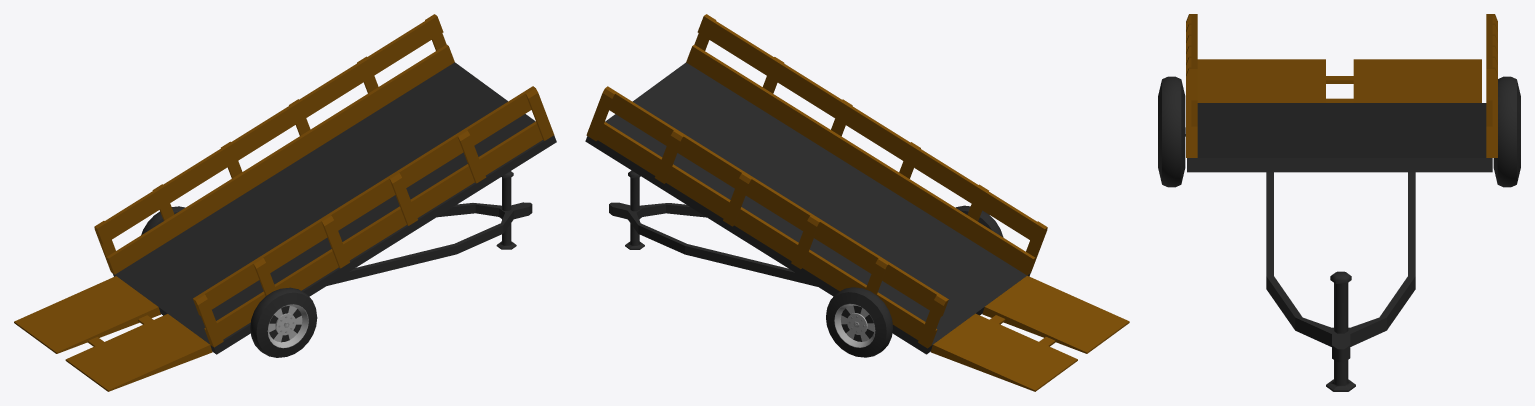
Rendered from Ramp_02.fbx.
3 renders of one model, left to right at view 1: azimuth 30°, elevation 25°; view 2: azimuth 150°, elevation 25°; view 3: azimuth 270°, elevation 25°, orthographic. The views are drawn at different scales.
Parts seen in each view (by area): view 1: polySurface11, pCube12, polySurface40, pCube13; view 2: polySurface11, pCube12, polySurface40, pCube13; view 3: polySurface11, pCube12, pCube13, polySurface40.
Part boxes in pixels (x1,y1,x2,y2): polySurface11: (94, 14, 556, 354); pCube12: (14, 276, 212, 391); polySurface40: (141, 206, 317, 357); pCube13: (327, 171, 532, 285); polySurface11: (585, 14, 1047, 354); pCube12: (931, 275, 1129, 391); polySurface40: (826, 205, 1003, 357); pCube13: (609, 170, 817, 286); polySurface11: (1186, 14, 1497, 172); pCube12: (1197, 59, 1481, 102); pCube13: (1266, 172, 1415, 391); polySurface40: (1158, 76, 1520, 187).
Size of the model in its own units: 49.06 by 20.15 by 21.7.
